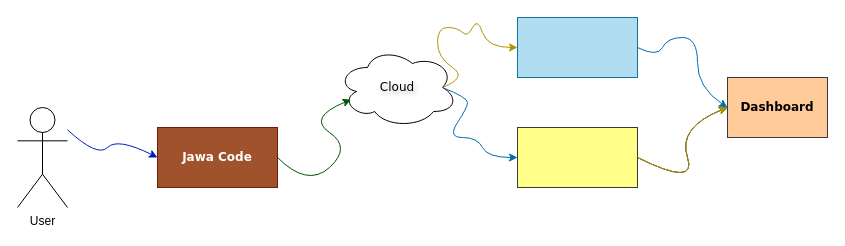
This 845x246 diagram has some shape labels left out. Here are the shapes that lost their labels. From the top down, the box of each, then its label:
(516, 16, 638, 78): Supabase (Auth+DB)
(516, 126, 638, 188): Firebase (FCM/Notification)
